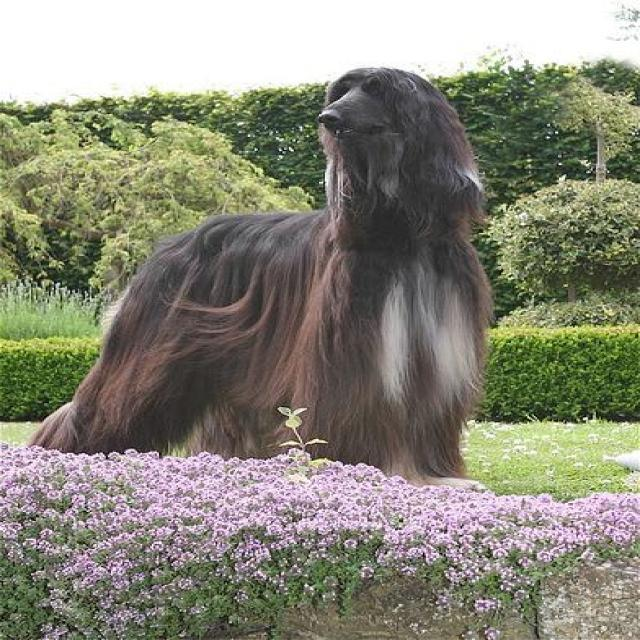afghan_hound: (23, 66, 491, 482)
